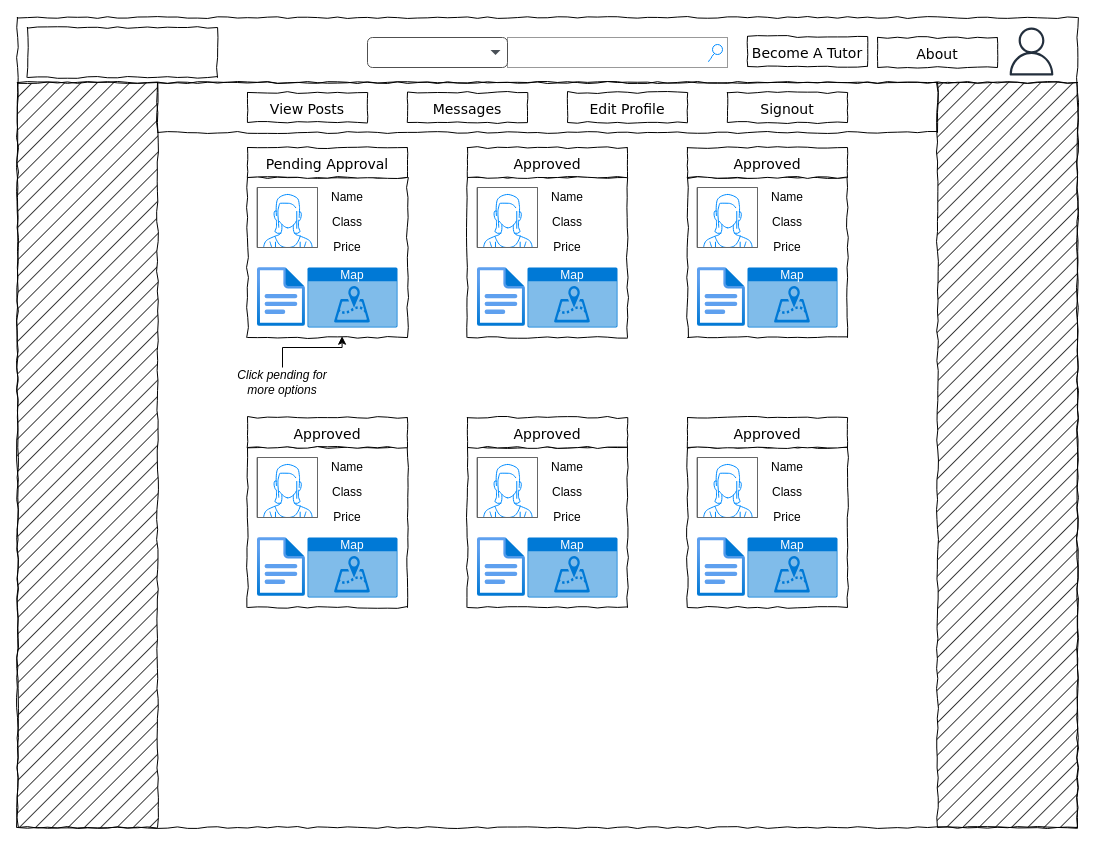
The diagram is 1095 pixels wide and 845 high, and some of its shapes have lost their labels. The centre of each missing label's shape, as x and y in pixels:
"CSC 848, CSC 648..." belongs at point (617, 52).
"LOGO" belongs at point (122, 52).
"Major" belongs at point (437, 52).
